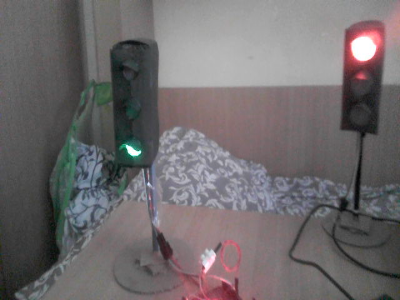trafficlight_green: (111, 43, 153, 165)
trafficlight_red: (342, 25, 383, 131)
